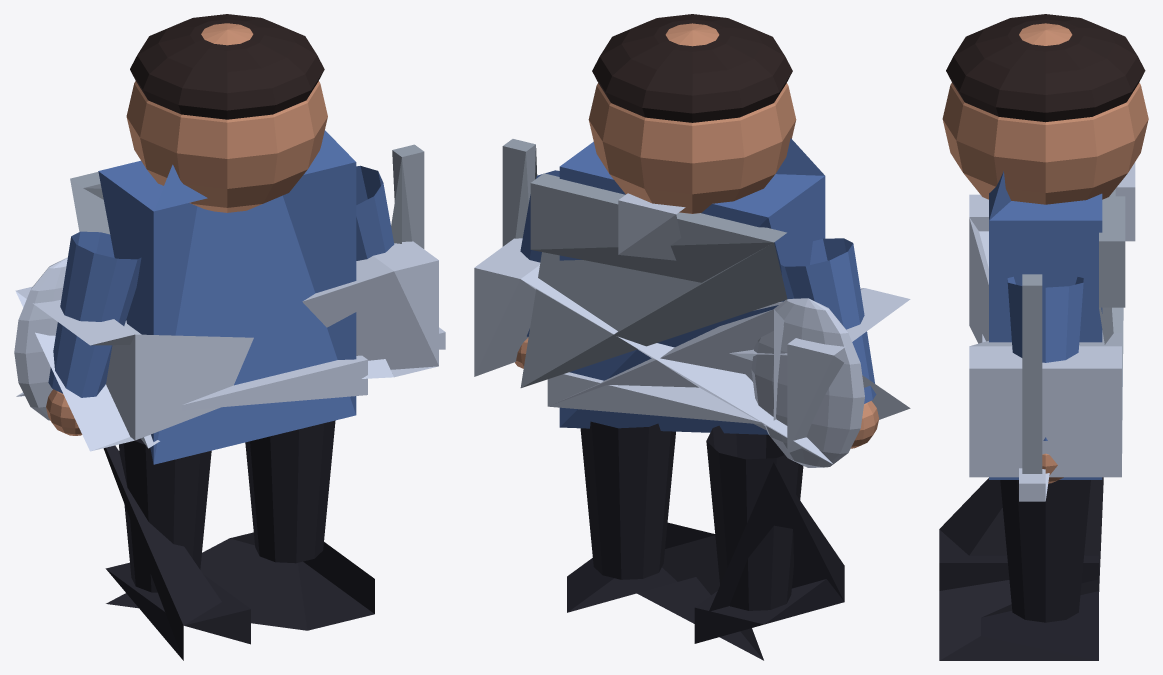
File: Knight_Male.obj
3 views of the same model, side by side, from view 1: azimuth 30°, elevation 25°; view 2: azimuth 150°, elevation 25°; view 3: azimuth 270°, elevation 25° (orthographic). The views are drawn at different scales.
Parts seen in each view (by area): view 1: Knight_Male; view 2: Knight_Male; view 3: Knight_Male.
Boxes of the visible parts, x1,y1,x2,y2 form: Knight_Male: (14,14,445,660); Knight_Male: (474,14,910,660); Knight_Male: (939,14,1148,660).
Size of the model in its own units: 1.41 by 1.93 by 0.63.
